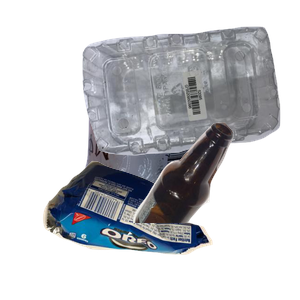glass: (130, 120, 300, 300)
metal: (82, 66, 270, 246)
plastic: (80, 24, 300, 172)
trash: (40, 158, 245, 300)
